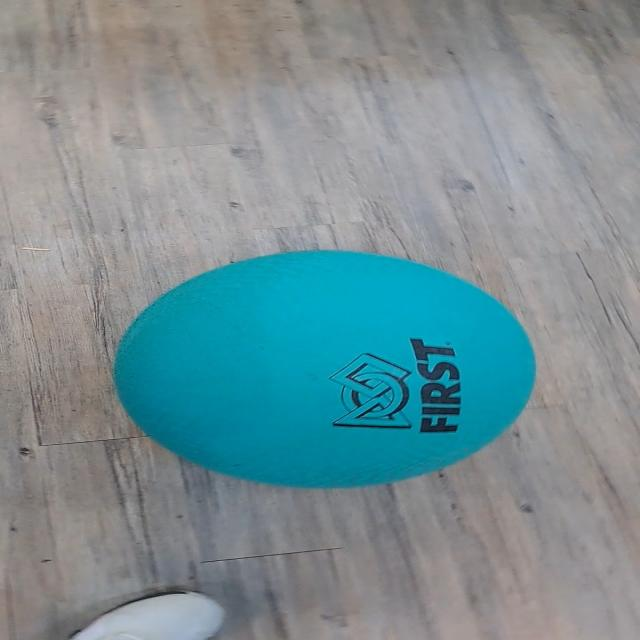ALGAE: (110, 248, 538, 490)
